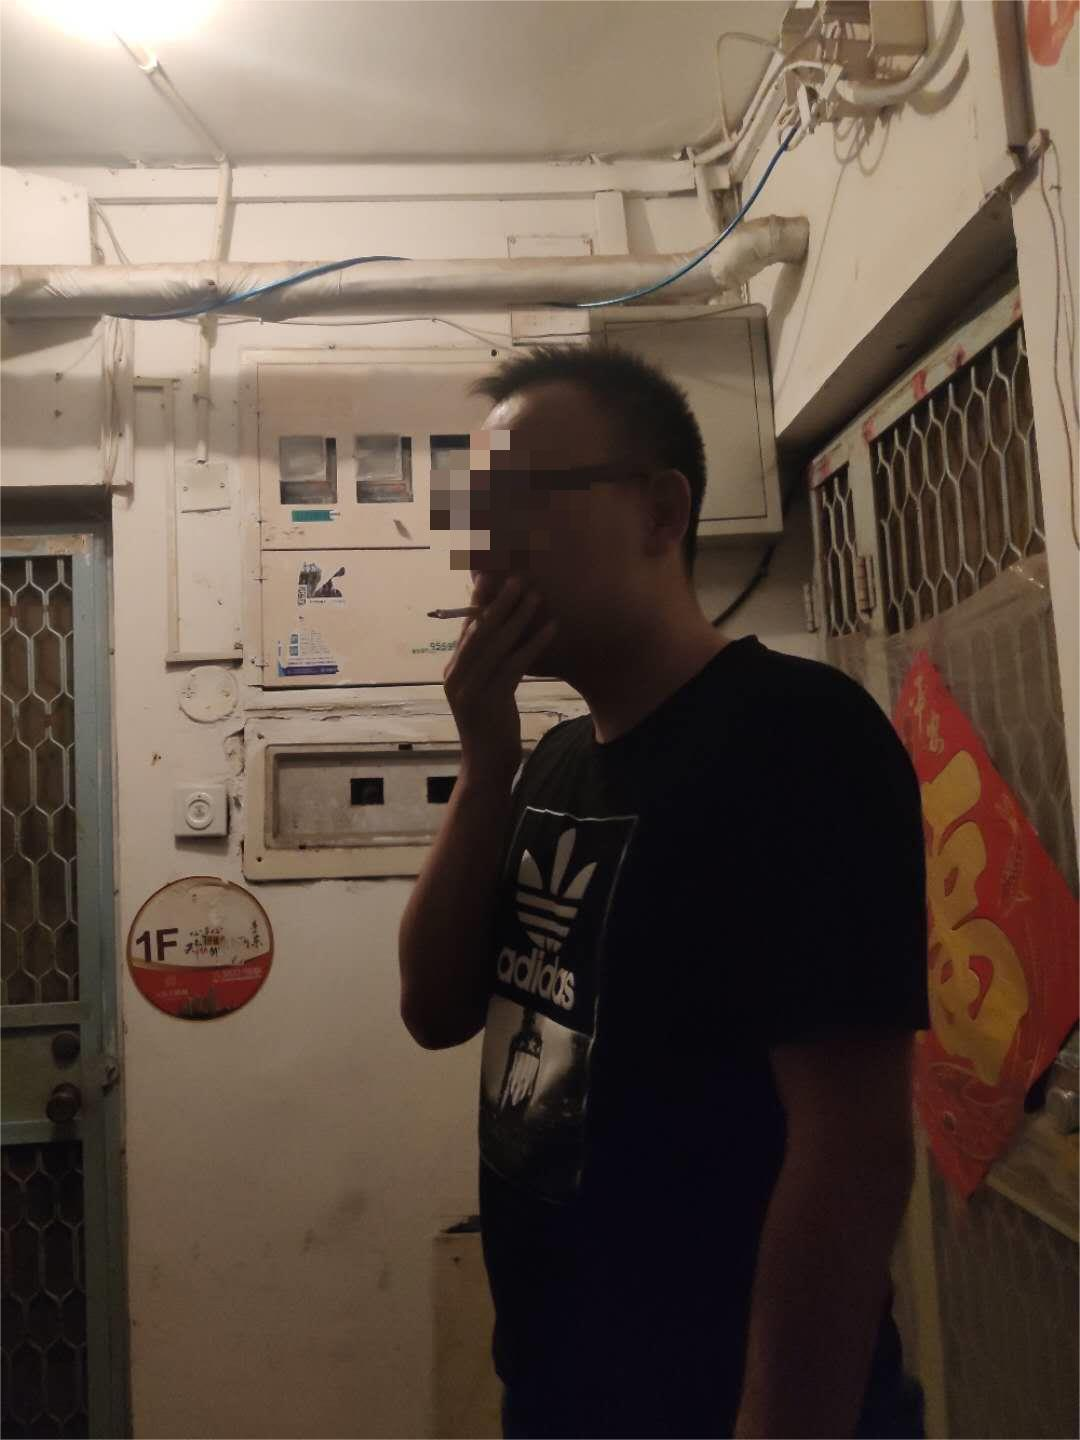smoke: (427, 604, 483, 624)
